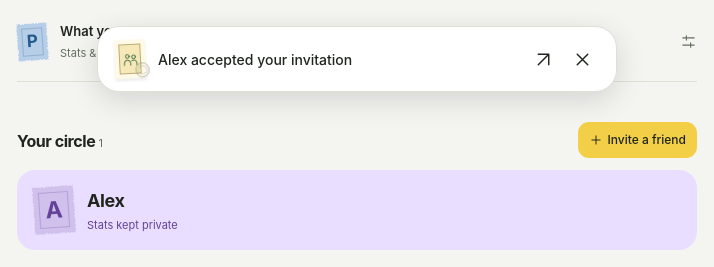
Test: dismisses a notice without navigating and keeps it quiet through polling
This screenshot has width=714, height=267.
Click the button named "Dismiss notification".
click(582, 59)  # box [560,37,604,81]
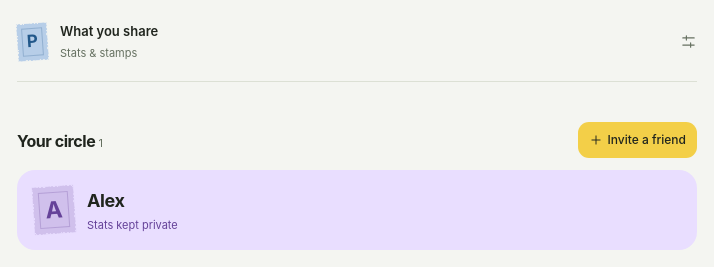
Check: the button "Alex accepted your invitation" is gone
